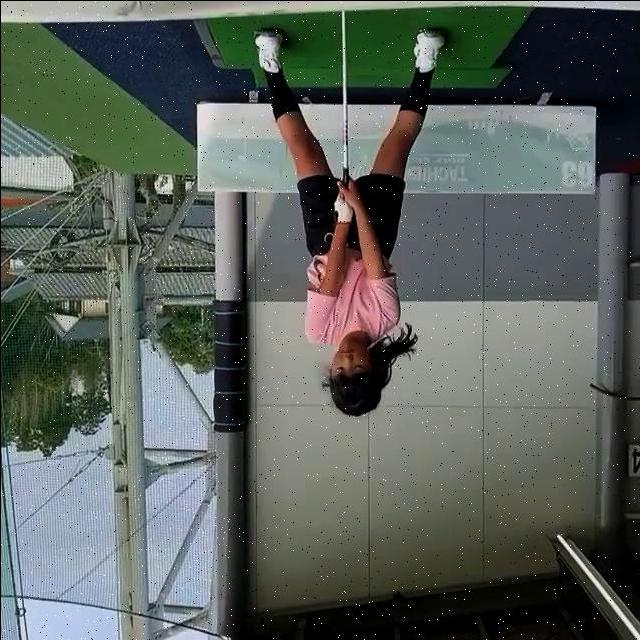ClubHandle: (337, 5, 350, 208)
